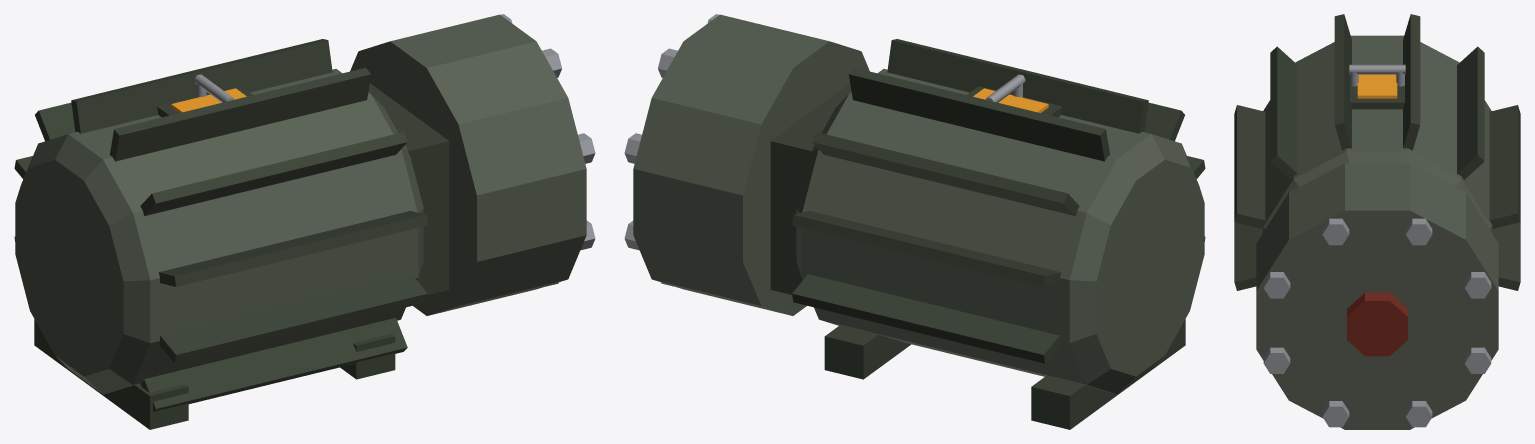
File: ko600_pump.obj
The picture shows the model from 3 angles, left to right: view 1: azimuth 30°, elevation 25°; view 2: azimuth 150°, elevation 25°; view 3: azimuth 270°, elevation 25°; orthographic projection. The views are drawn at different scales.
Visible parts, largest first — view 1: ko600_pump; view 2: ko600_pump; view 3: ko600_pump.
Boxes of the visible parts, box(x1,y1,x2,y2) form: ko600_pump: box(14, 14, 595, 429); ko600_pump: box(624, 14, 1205, 429); ko600_pump: box(1234, 14, 1520, 429).
Size of the model in its own units: 1.45 by 0.8037 by 0.8674.
